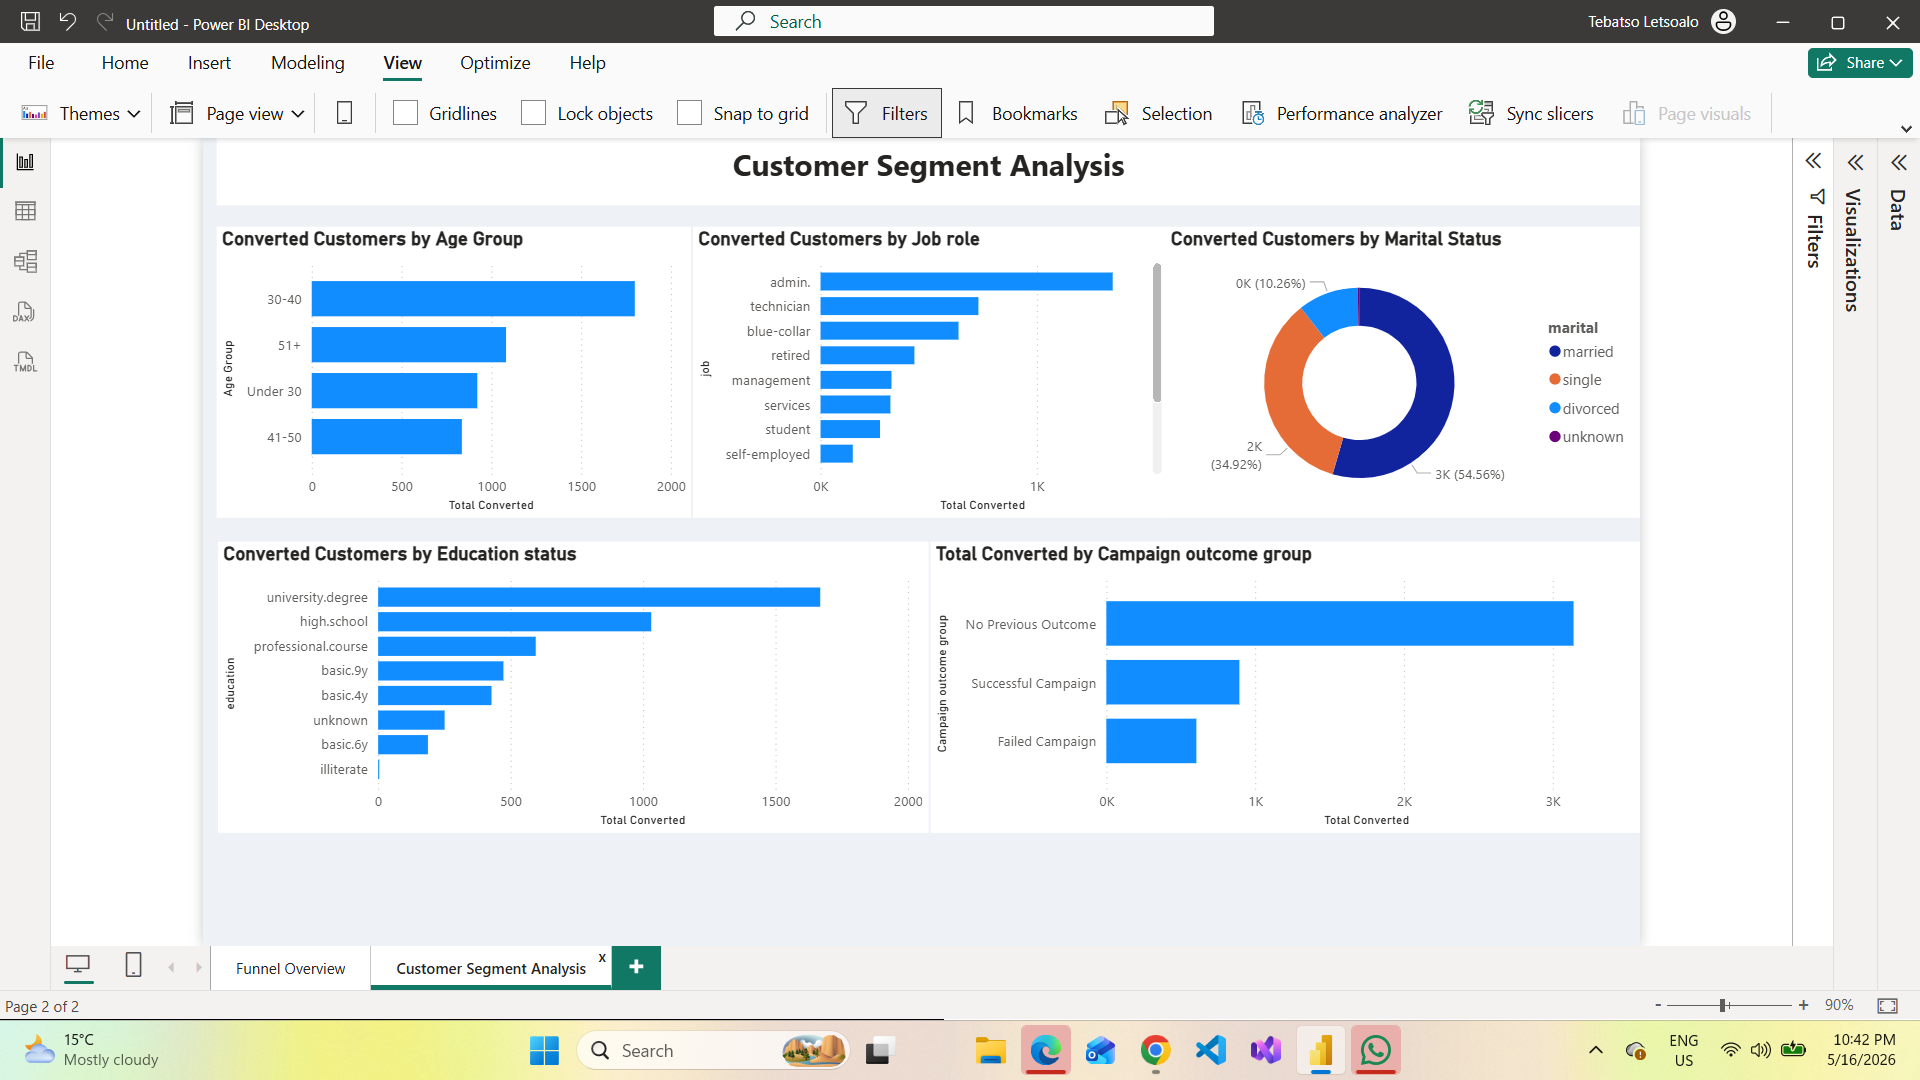

The page's visual inventory and layout, read from the dashboard file:
{"tool":"powerbi","page":{"name":"Customer Segment Analysis","canvas":[1280,720],"ordinal":1},"visuals":[{"type":"textbox","box":[12.3,0,1267.9,60.4],"z":2},{"type":"clusteredBarChart","title":"Converted Customers by Age Group","fields":{"Category":["Marketing Funnel.Age Group"],"Y":["Marketing Funnel.Total Converted"]},"box":[12.3,79.6,422.6,259.3],"z":3},{"type":"clusteredBarChart","title":"Converted Customers by Job role","fields":{"Category":["Marketing Funnel.job"],"Y":["Marketing Funnel.Total Converted"]},"box":[436.4,79.6,422.6,259.3],"z":4},{"type":"donutChart","title":"Converted Customers by Marital Status","fields":{"Category":["Marketing Funnel.marital"],"Y":["Marketing Funnel.Total Converted"]},"box":[857.6,79.6,422.6,259.3],"z":5},{"type":"clusteredBarChart","title":"Converted Customers  by Education status","fields":{"Category":["Marketing Funnel.education"],"Y":["Marketing Funnel.Total Converted"]},"box":[13.7,359.5,632.6,259.3],"z":6},{"type":"clusteredBarChart","fields":{"Category":["Marketing Funnel.Campaign outcome group"],"Y":["Marketing Funnel.Total Converted"]},"box":[647.7,359.5,632.6,259.3],"z":7}]}

Visuals, with their boxes on the page's 1280x720 design canvas (x1, y1, x2, y2). These are canvas units, not pixel positions in the 1920x1080 screenshot, which may show the page scaled, cropped or inside an application window:
textbox: x1=12 y1=0 x2=1280 y2=60
"Converted Customers by Age Group" clusteredBarChart: x1=12 y1=80 x2=435 y2=339
"Converted Customers by Job role" clusteredBarChart: x1=436 y1=80 x2=859 y2=339
"Converted Customers by Marital Status" donutChart: x1=858 y1=80 x2=1280 y2=339
"Converted Customers  by Education status" clusteredBarChart: x1=14 y1=360 x2=646 y2=619
clusteredBarChart - Marketing Funnel.Campaign outcome group x Marketing Funnel.Total Converted: x1=648 y1=360 x2=1280 y2=619
